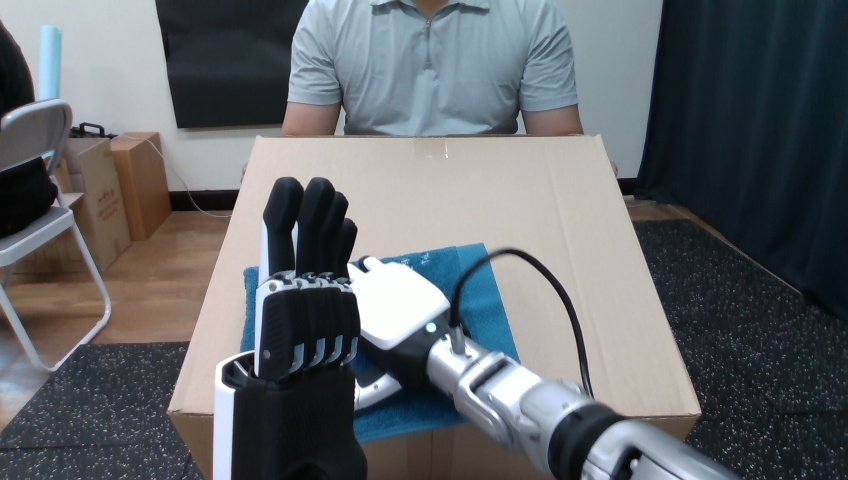left robot hand: (213, 177, 735, 479), (458, 254, 584, 388)
